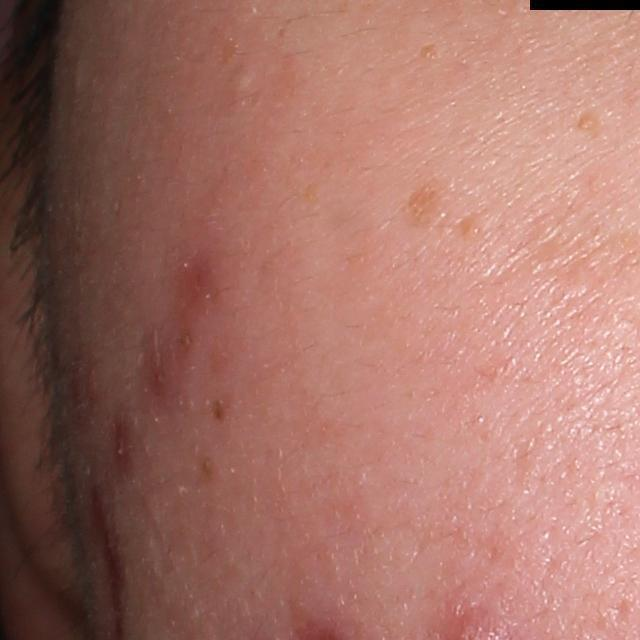comedo: (231, 59, 260, 94)
melasma: (404, 175, 450, 230), (575, 108, 606, 140), (417, 44, 441, 61)
